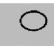no answer: (17, 8, 49, 32)
